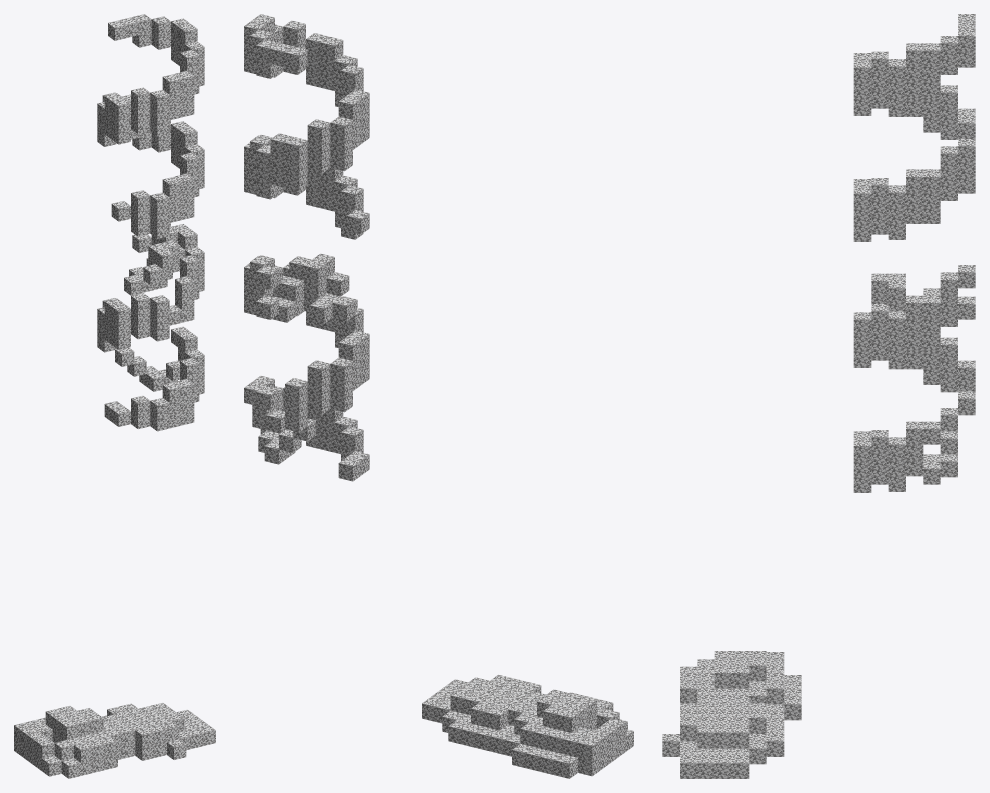
The model's file is lighthouse_diorite.obj.
The picture shows the model from 3 angles, left to right: view 1: azimuth 30°, elevation 25°; view 2: azimuth 150°, elevation 25°; view 3: azimuth 270°, elevation 25°; orthographic projection. The views are drawn at different scales.
Bounding box in the file's own units: 19 × 49 × 18.
